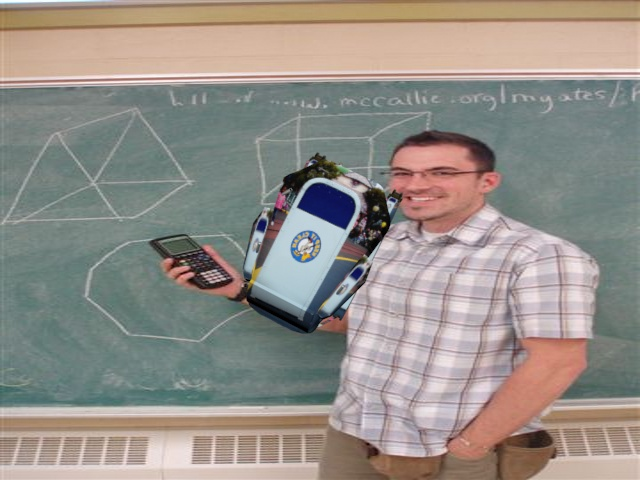back_pack: (240, 145, 414, 337)
